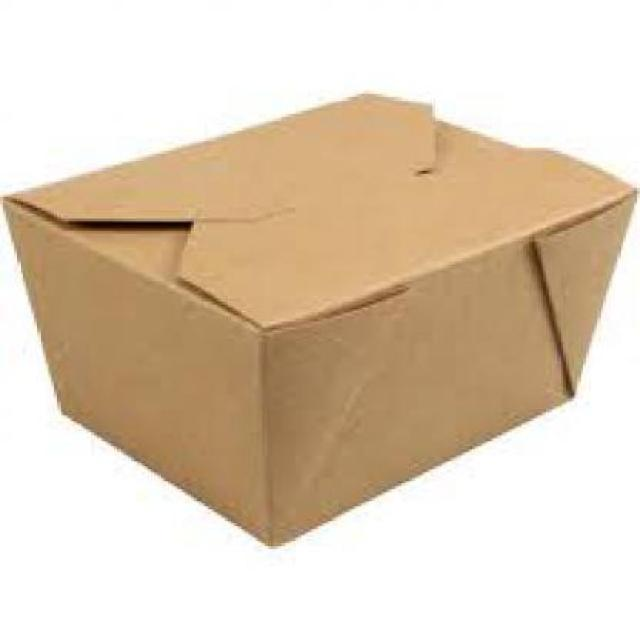box: (0, 87, 635, 546)
